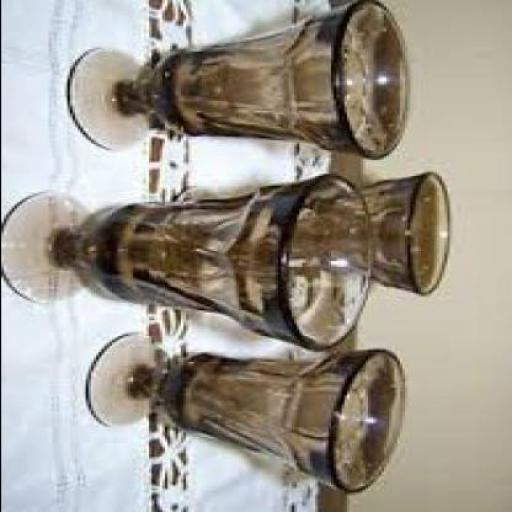glass: (3, 170, 377, 349), (71, 0, 410, 156), (92, 330, 406, 492), (174, 170, 451, 294)
